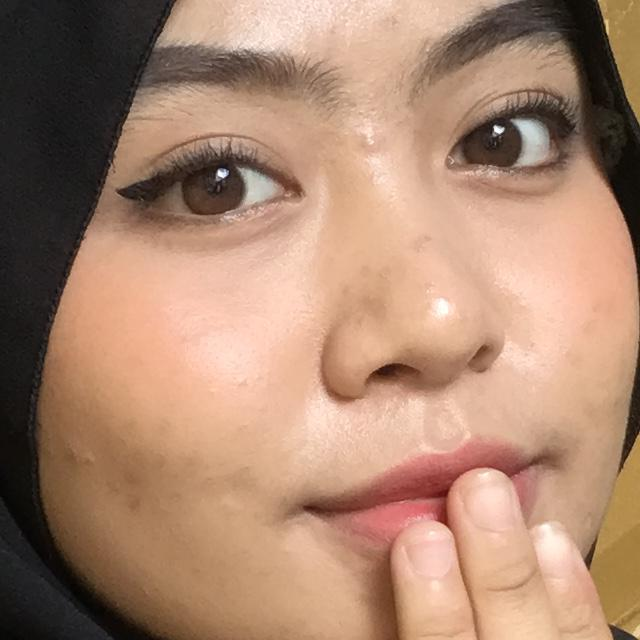ganteng: (240, 416, 640, 640)
